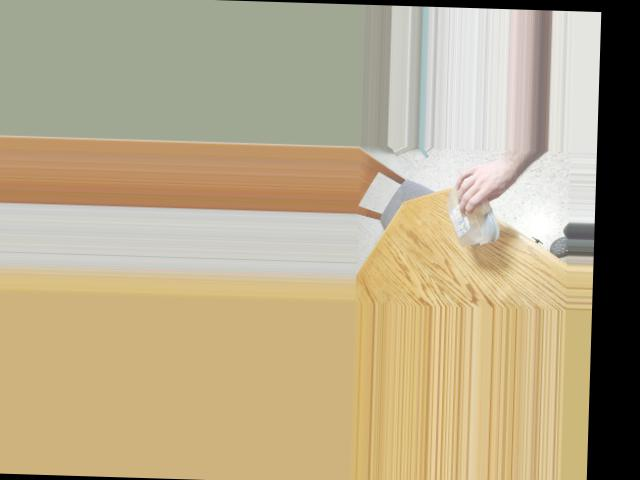cheese: (450, 186, 493, 240)
